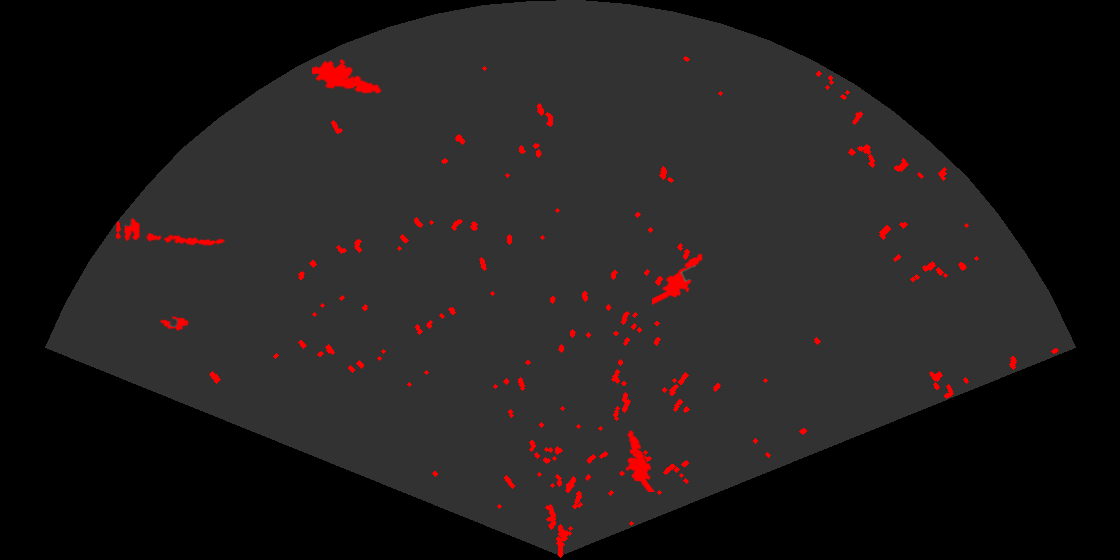AUV: (158, 314, 191, 333)
ball: (114, 217, 141, 243)
chain: (144, 231, 226, 248)
frogman: (652, 252, 705, 306), (312, 57, 383, 95), (624, 429, 656, 492)
